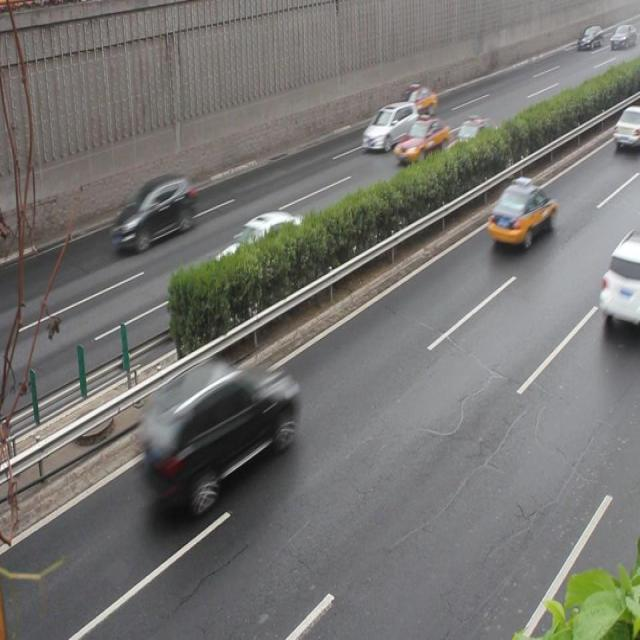car: (138, 356, 296, 502), (210, 212, 304, 290), (112, 174, 195, 251), (489, 177, 555, 251), (596, 237, 640, 330), (362, 102, 415, 153), (394, 116, 448, 166), (447, 118, 500, 168), (610, 103, 640, 153), (394, 86, 436, 121)
